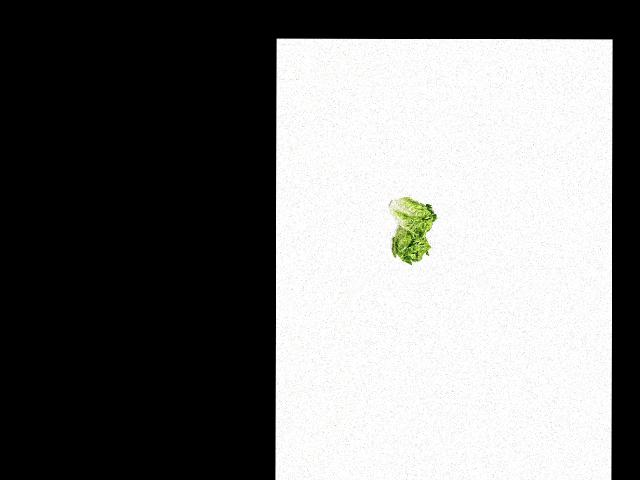lettuce: (386, 222, 431, 264)
